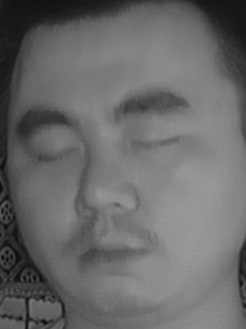blink: (28, 130, 78, 170), (130, 123, 180, 156)
mouth: (61, 226, 157, 283)
